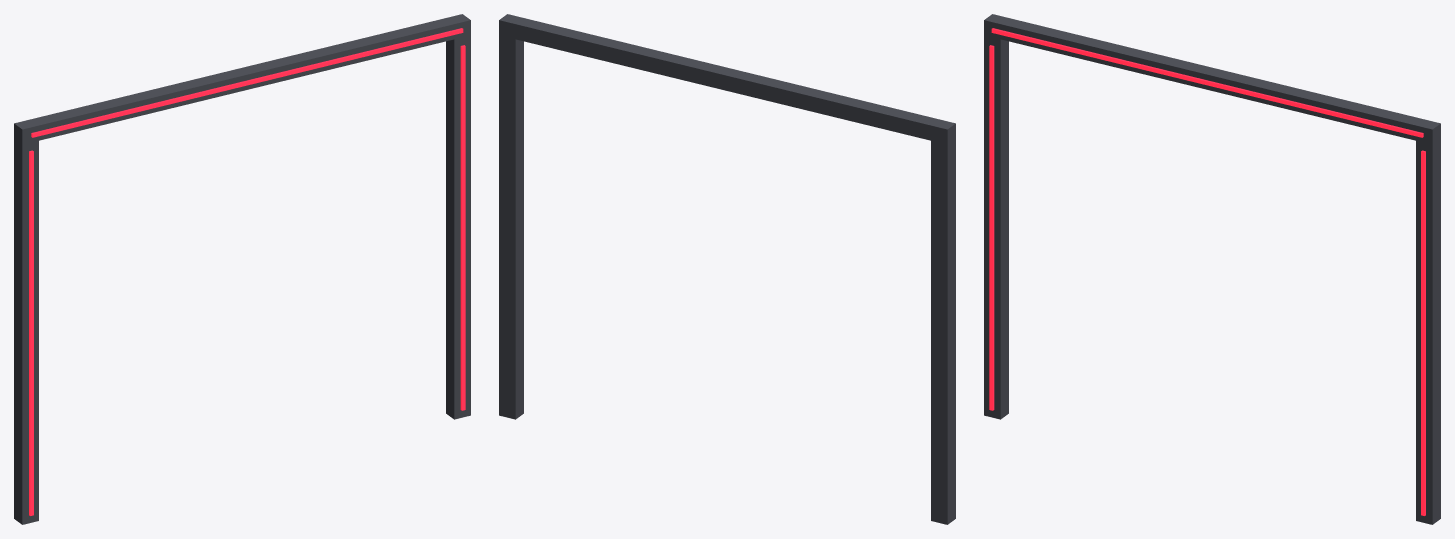
Rendered from entry_trim.glb.
The picture shows the model from 3 angles, left to right: view 1: azimuth 30°, elevation 25°; view 2: azimuth 150°, elevation 25°; view 3: azimuth 330°, elevation 25°; orthographic projection.
Parts seen in each view (by area): view 1: entry_trim; view 2: entry_trim; view 3: entry_trim.
Boxes of the visible parts, <box> form: entry_trim: <box>14,14,470,524</box>; entry_trim: <box>499,14,955,524</box>; entry_trim: <box>984,14,1440,524</box>.
Size of the model in its own units: 4.32 by 3.64 by 0.1625.
